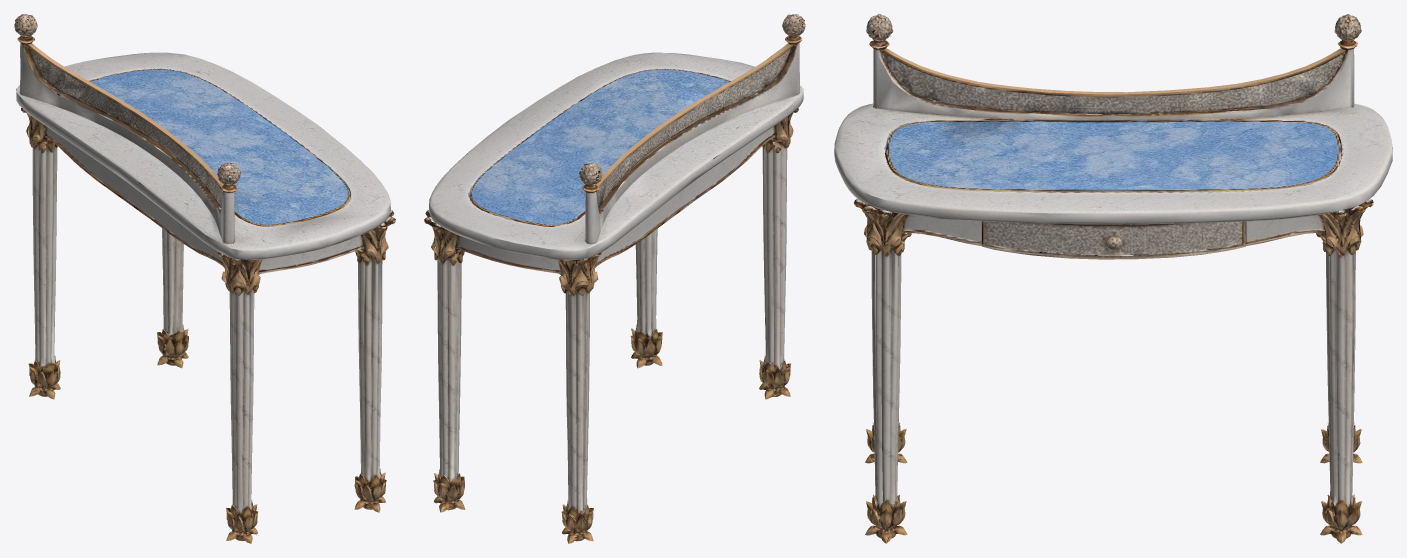
Rendered from SE-07_writing_desk_game.glb.
The picture shows the model from 3 angles, left to right: view 1: azimuth 30°, elevation 25°; view 2: azimuth 150°, elevation 25°; view 3: azimuth 270°, elevation 25°; orthographic projection. The views are drawn at different scales.
Visible parts, largest first — view 1: SE-07_writing_desk; view 2: SE-07_writing_desk; view 3: SE-07_writing_desk.
Boxes of the visible parts, x1,y1,x2,y2 form: SE-07_writing_desk: [14, 14, 395, 543]; SE-07_writing_desk: [424, 14, 805, 543]; SE-07_writing_desk: [834, 14, 1392, 543].
Bounding box in the file's own units: 0.4212 × 0.76 × 0.8736.
1 material, 1 textured.
